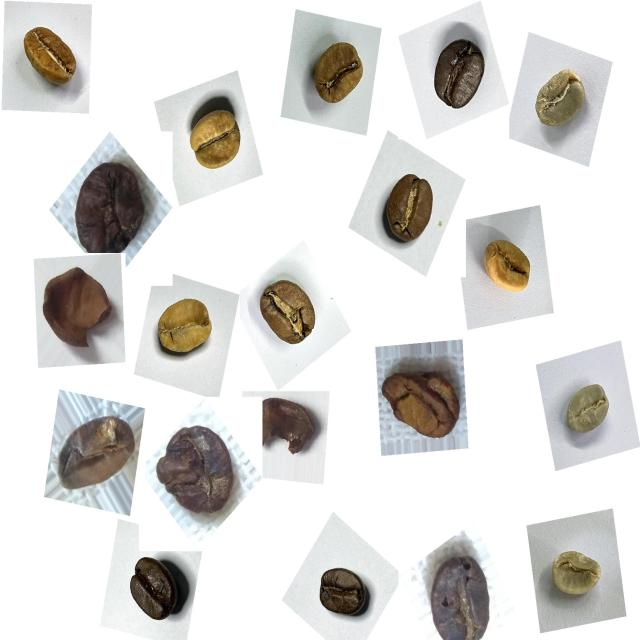bad: (151, 417, 245, 527), (64, 148, 158, 258), (376, 348, 468, 452), (49, 404, 138, 510), (33, 257, 121, 362), (417, 541, 501, 639), (254, 391, 324, 468)
dark: (119, 547, 193, 634), (312, 553, 378, 629)
green: (526, 58, 598, 144), (539, 538, 610, 612), (556, 375, 620, 449)
light: (179, 90, 252, 186), (302, 32, 375, 118), (14, 15, 88, 99), (150, 285, 223, 369), (473, 229, 539, 309)
medium: (421, 30, 494, 122), (250, 272, 326, 360), (375, 166, 446, 256)
